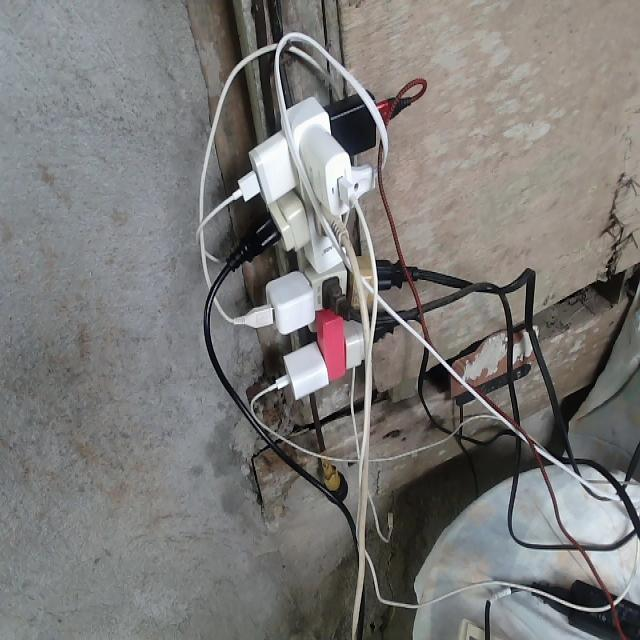-: (223, 93, 397, 400)
